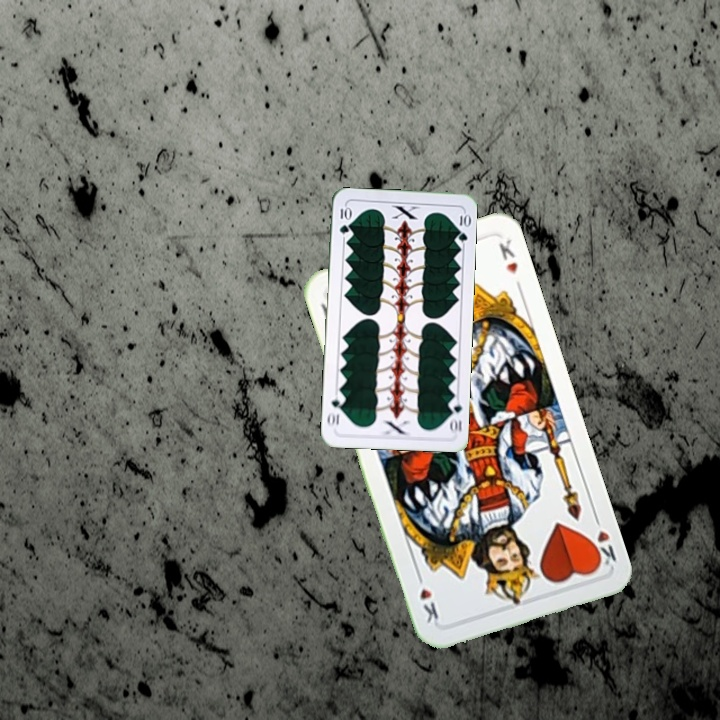G10: (445, 395, 464, 436), (336, 202, 352, 236)
HK: (585, 510, 619, 571)
